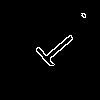T: (27, 25, 82, 79)
